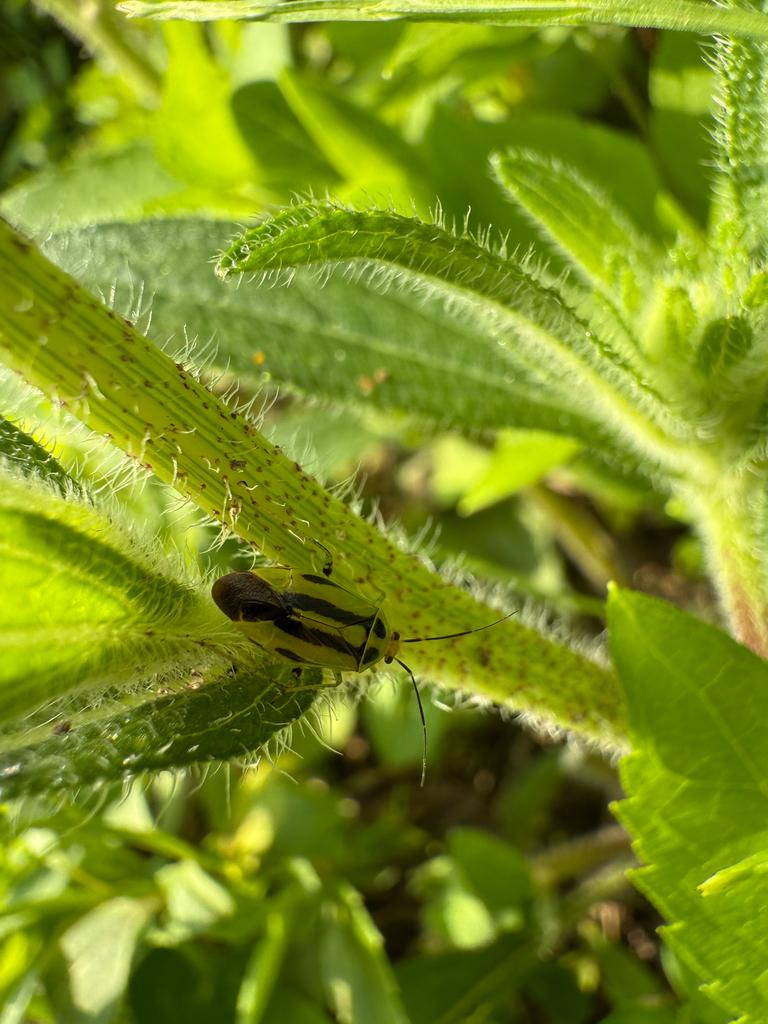plant_bugs: (184, 526, 541, 823)
